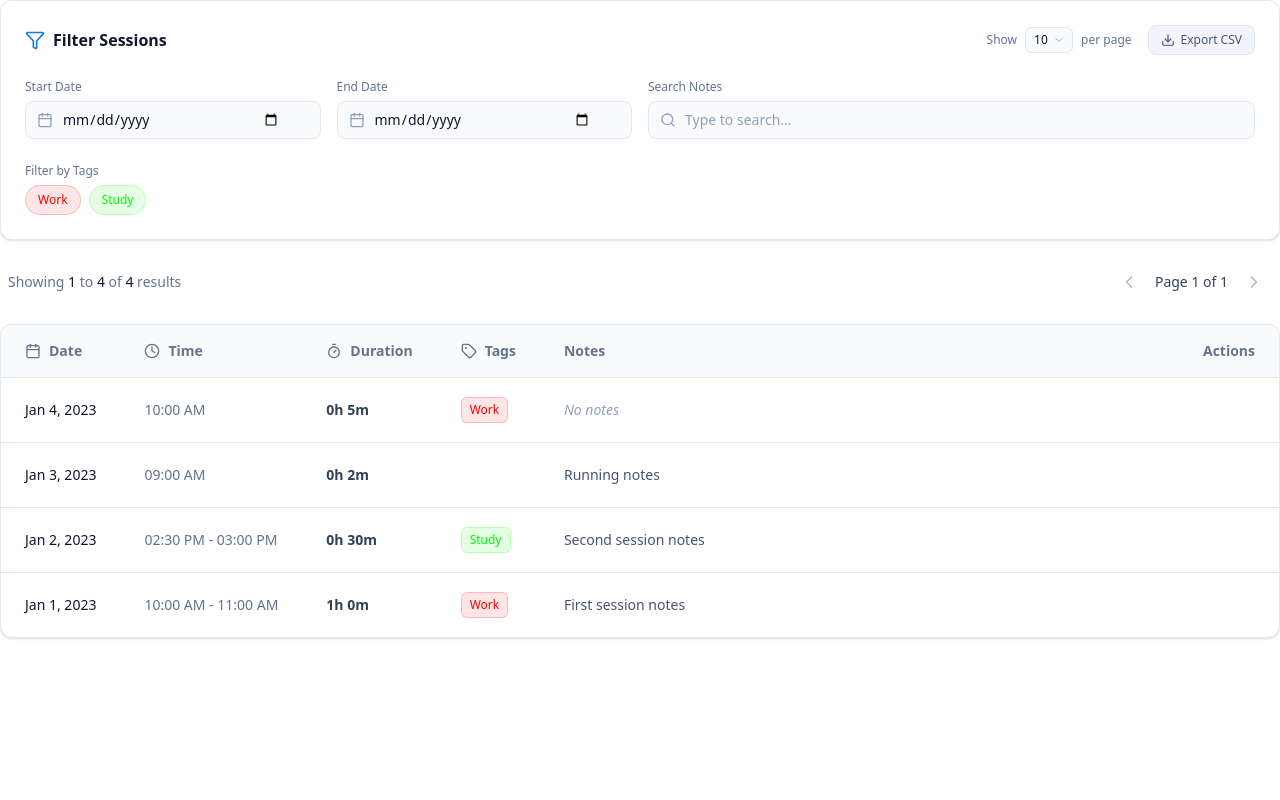
Test: SessionsTable › filters by Tags
The image size is (1280, 800).
What coordinates should you click on to do the following:
click the button "Work"
I would click on:
 (53, 200)
Its box is [25,185,80,215].
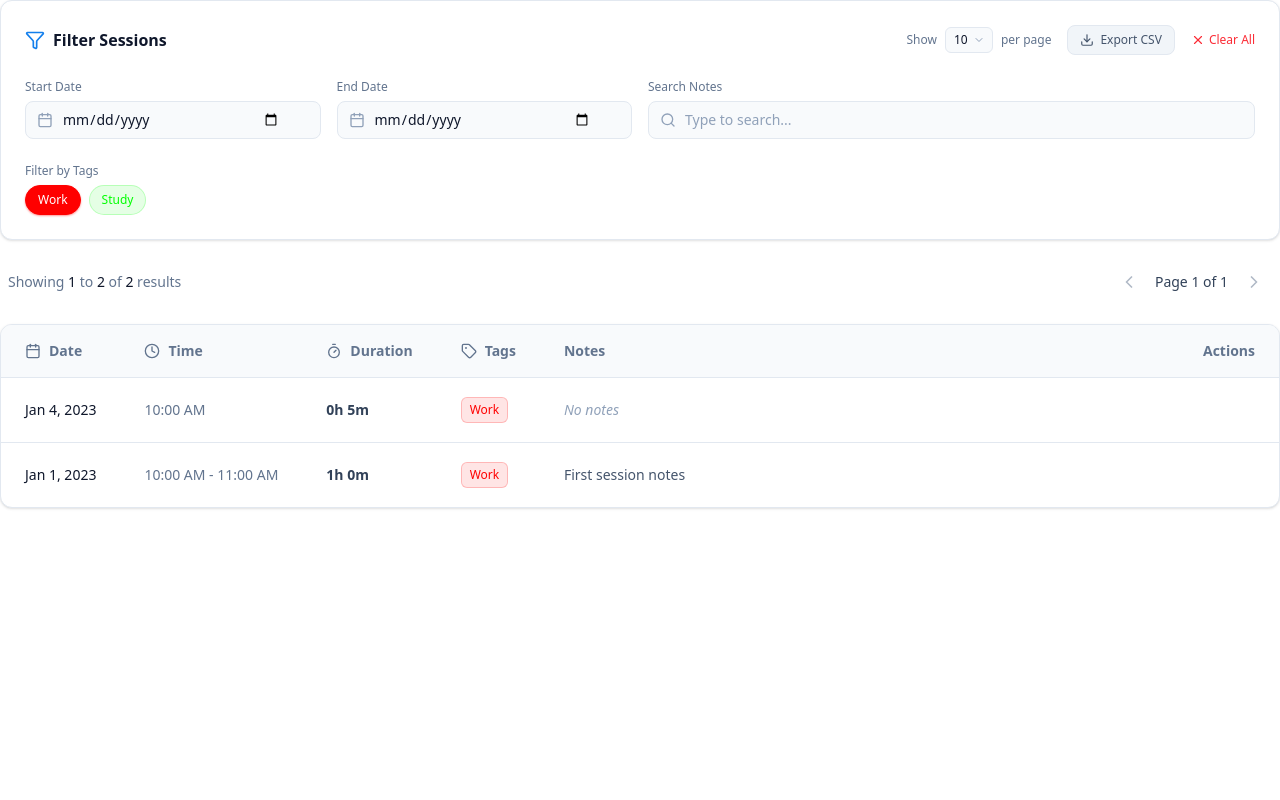
Check: the text "First session notes" is shown, box [540,442,1159,507]
Check: the text "Second session notes" is gone
